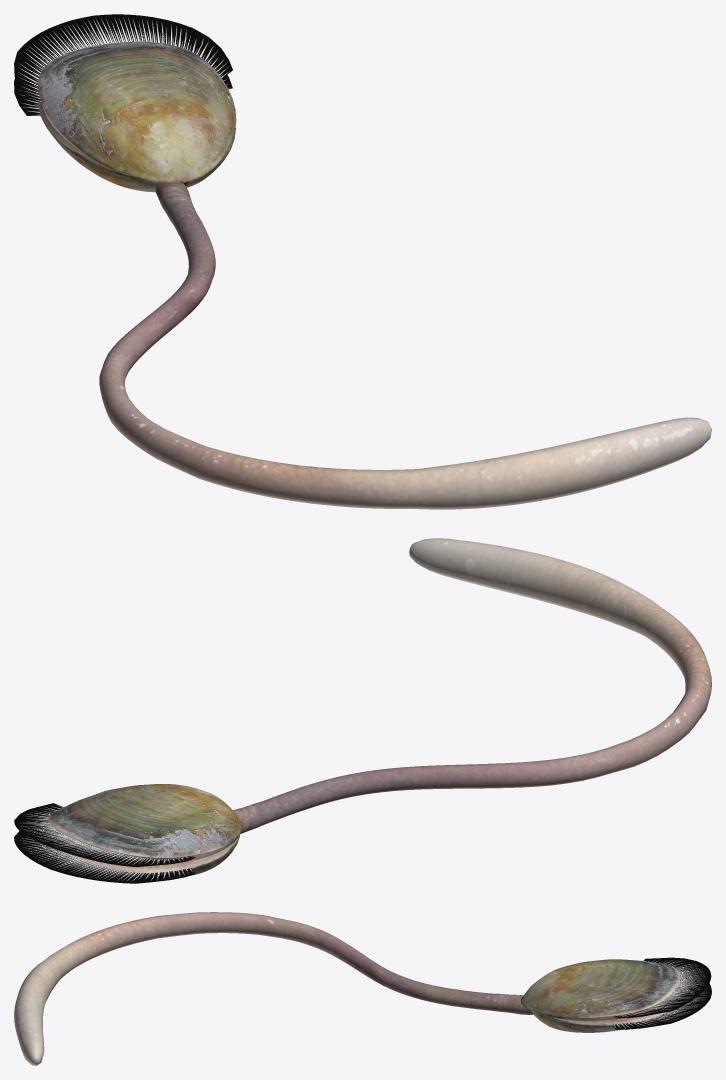
The model's file is lingulella.obj.
3 views of the same model, one above another, from view 1: azimuth 30°, elevation 25°; view 2: azimuth 150°, elevation 25°; view 3: azimuth 270°, elevation 25° (orthographic). The views are drawn at different scales.
Visible parts, largest first — view 1: lingulella1; view 2: lingulella1; view 3: lingulella1.
Boxes of the visible parts, <box> form: lingulella1: <box>14,14,711,509</box>; lingulella1: <box>14,538,711,883</box>; lingulella1: <box>14,912,711,1065</box>.
Bounding box in the file's own units: 3.73 × 0.7284 × 7.75.
2 materials, 2 textured.
